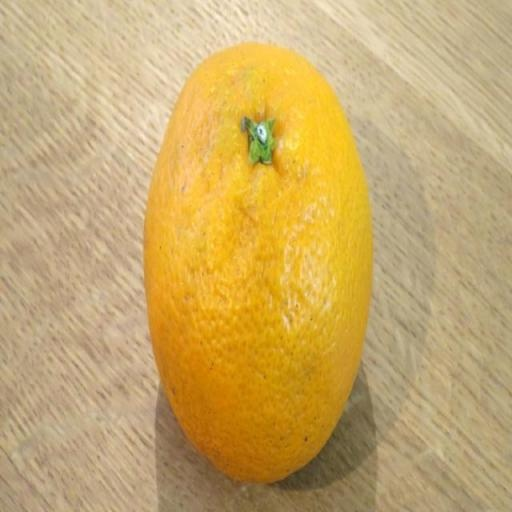fruit: (144, 44, 371, 481)
